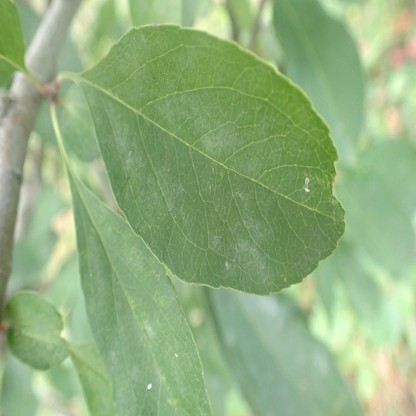powdery_mildew: (72, 24, 346, 295), (72, 171, 212, 416), (252, 292, 285, 324), (312, 352, 327, 374)
